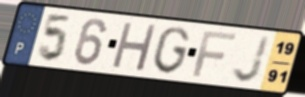5: (35, 12, 74, 63)
6: (71, 17, 109, 67)
F: (190, 30, 238, 79)
G: (150, 25, 193, 76)
H: (109, 20, 160, 74)
J: (231, 34, 272, 85)
